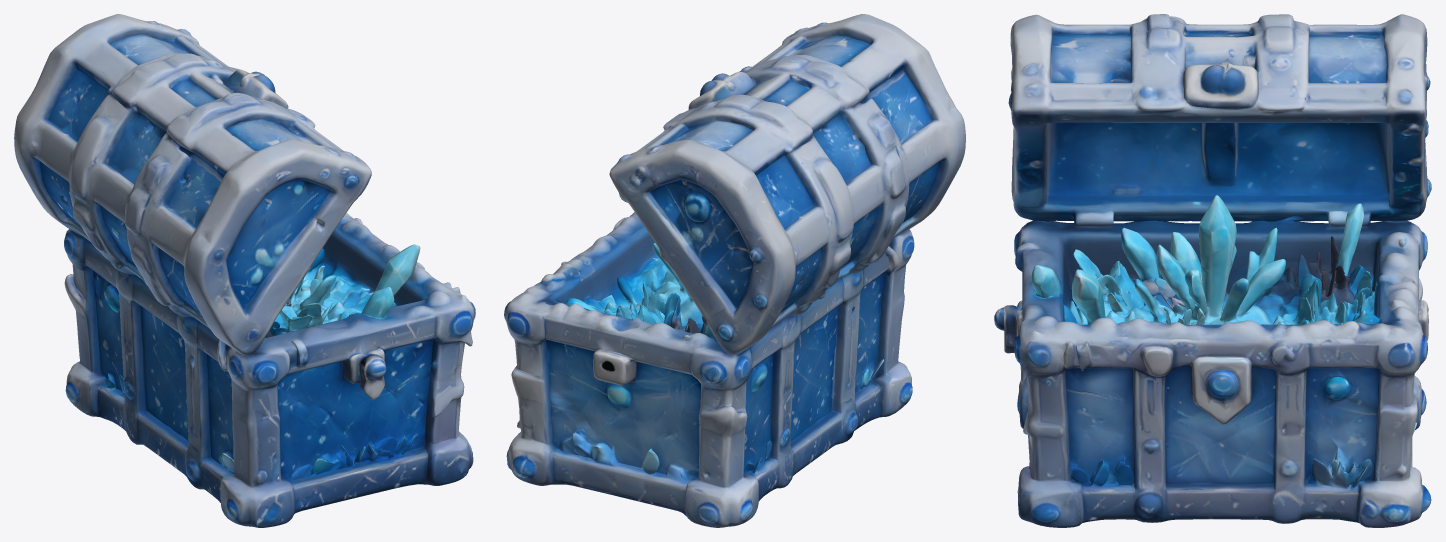
Rendered from prop-chest-frost.glb.
3 views of the same model, side by side, from view 1: azimuth 30°, elevation 25°; view 2: azimuth 150°, elevation 25°; view 3: azimuth 270°, elevation 25° (orthographic). The views are drawn at different scales.
Visible parts, largest first — view 1: tripo_node_c0a7efc3-e5b9-4981-b36d-4ea8312f6def; view 2: tripo_node_c0a7efc3-e5b9-4981-b36d-4ea8312f6def; view 3: tripo_node_c0a7efc3-e5b9-4981-b36d-4ea8312f6def.
Part boxes in pixels (x1,y1,x2,y2): tripo_node_c0a7efc3-e5b9-4981-b36d-4ea8312f6def: (14,14,475,527); tripo_node_c0a7efc3-e5b9-4981-b36d-4ea8312f6def: (504,14,965,527); tripo_node_c0a7efc3-e5b9-4981-b36d-4ea8312f6def: (994,14,1431,527).
Bounding box in the file's own units: 0.8013 × 1 × 0.9677.
Materials: 1 (1 with a texture image).
